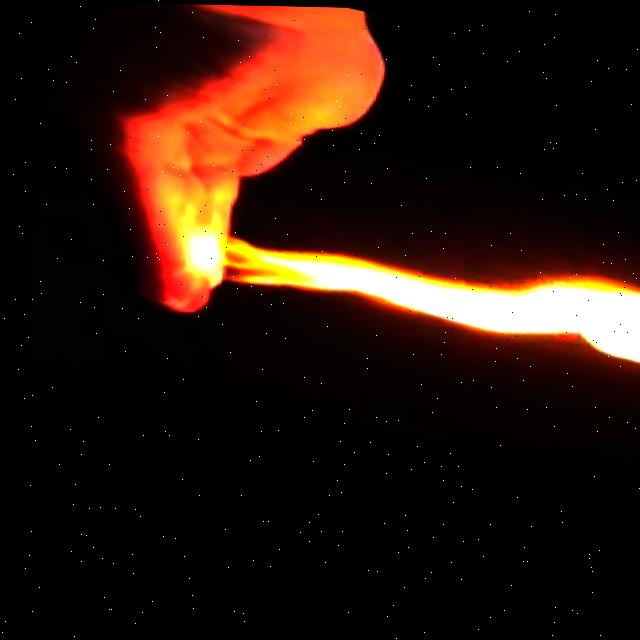Fire: (155, 165, 640, 390)
